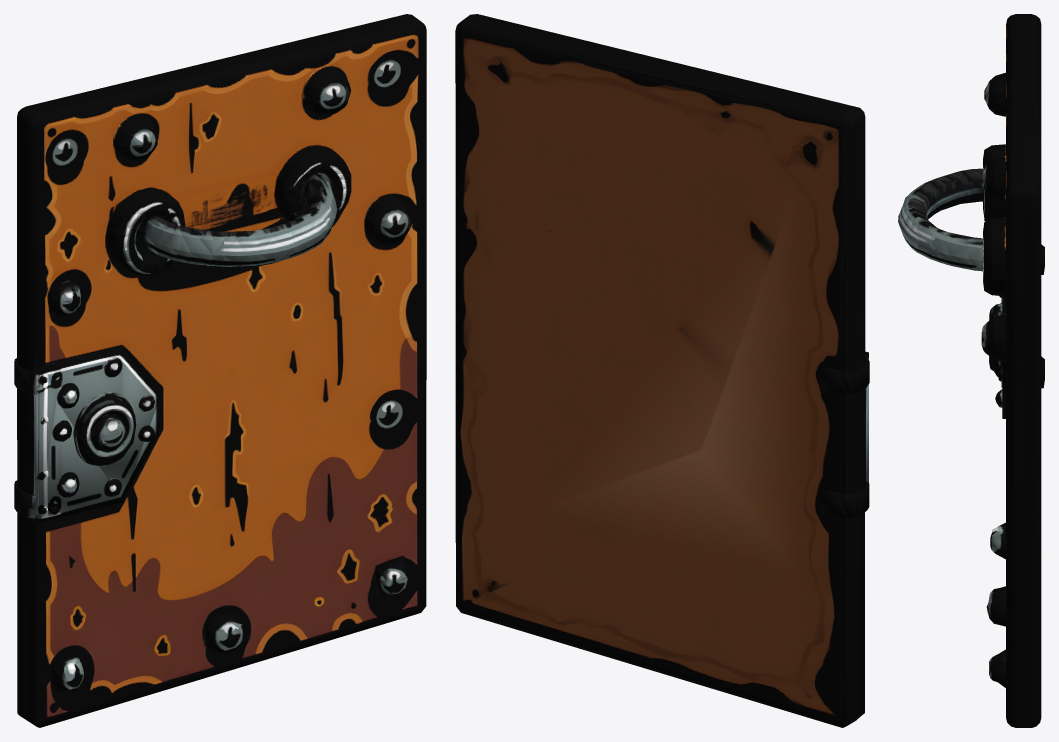
The model's file is side_door.glb.
The picture shows the model from 3 angles, left to right: view 1: azimuth 30°, elevation 25°; view 2: azimuth 150°, elevation 25°; view 3: azimuth 270°, elevation 25°; orthographic projection. The views are drawn at different scales.
Visible parts, largest first — view 1: tripo_node_3d3c004c-9f45-4fb6-931e-8108d7954244; view 2: tripo_node_3d3c004c-9f45-4fb6-931e-8108d7954244; view 3: tripo_node_3d3c004c-9f45-4fb6-931e-8108d7954244.
Boxes of the visible parts, x1=… form: tripo_node_3d3c004c-9f45-4fb6-931e-8108d7954244: x1=14, y1=14, x2=426, y2=727; tripo_node_3d3c004c-9f45-4fb6-931e-8108d7954244: x1=455, y1=14, x2=869, y2=727; tripo_node_3d3c004c-9f45-4fb6-931e-8108d7954244: x1=898, y1=14, x2=1044, y2=727.
Size of the model in its own units: 0.6855 by 0.998 by 0.2363.
1 material, 1 textured.
